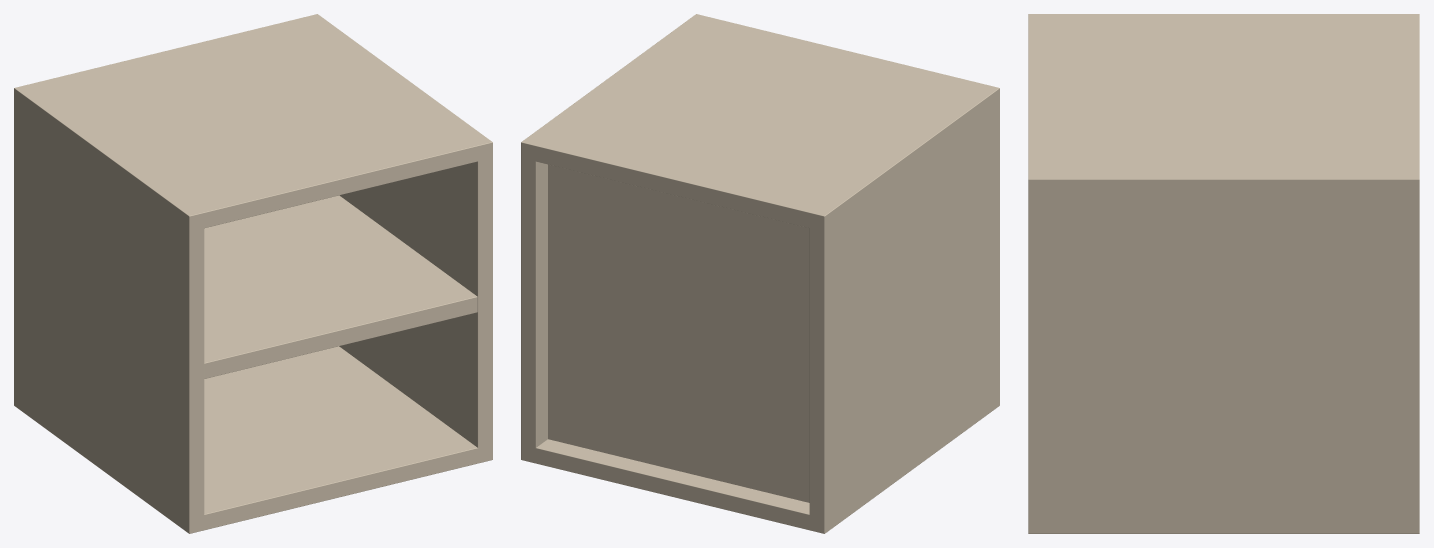
The model's file is MOD-1X1-S-B-AR.glb.
3 renders of one model, left to right at view 1: azimuth 30°, elevation 25°; view 2: azimuth 150°, elevation 25°; view 3: azimuth 270°, elevation 25°, orthographic. The views are drawn at different scales.
Bounding box in the file's own units: 360 × 360 × 360.
